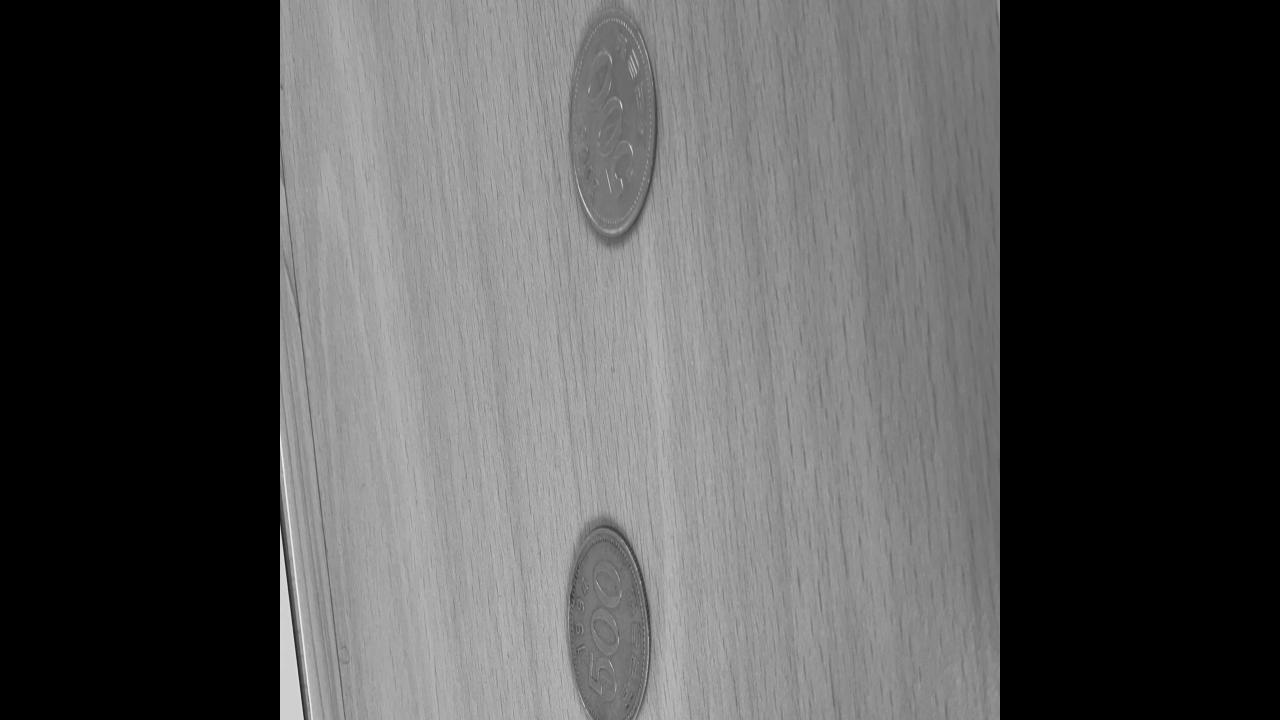coin: (567, 5, 658, 243), (565, 519, 653, 720)
